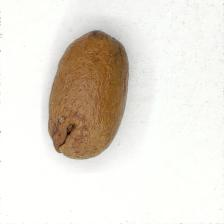NG: (47, 112, 88, 156)
